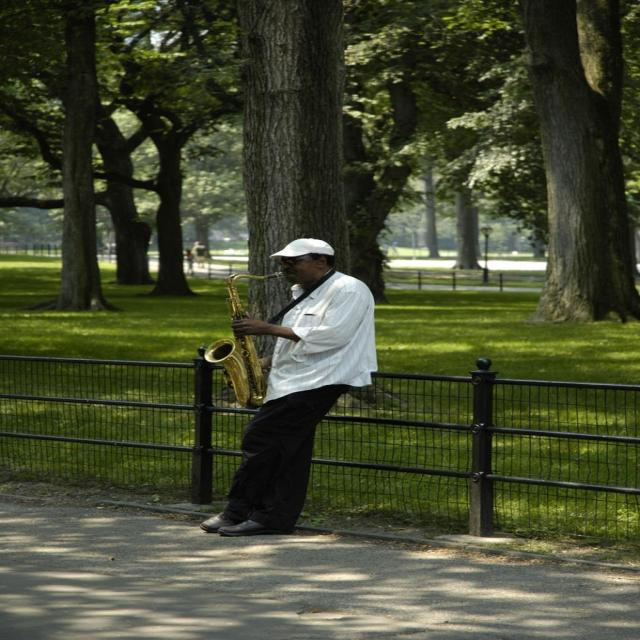saxophone: (200, 269, 291, 408)
